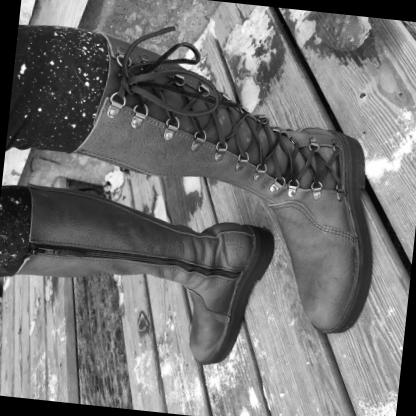ankle: (179, 262, 188, 269), (281, 153, 289, 160)
heel: (260, 235, 265, 243), (349, 140, 355, 146)
left_foot: (260, 123, 387, 335)
pinky: (341, 291, 348, 299), (191, 338, 195, 342)
right_foot: (166, 216, 269, 369)
toe: (310, 310, 317, 320), (203, 355, 208, 361)
